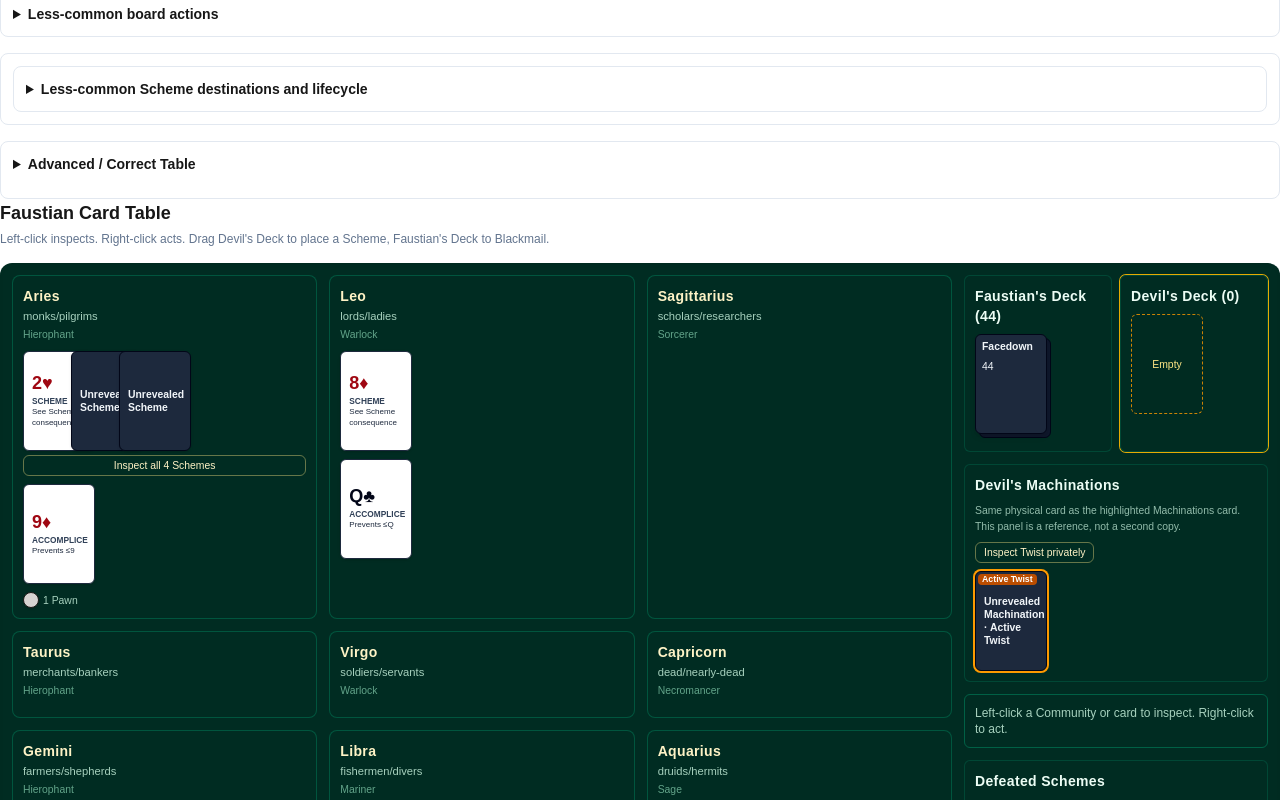
Test: Faustian surface presentation › names Leo at most once in a selected-card inspector
This screenshot has width=1280, height=800.
(page scrolled)
Click the button "8♦ Scheme See Scheme consequence": (376, 401) 340,351 -> 412,451
(page scrolled)
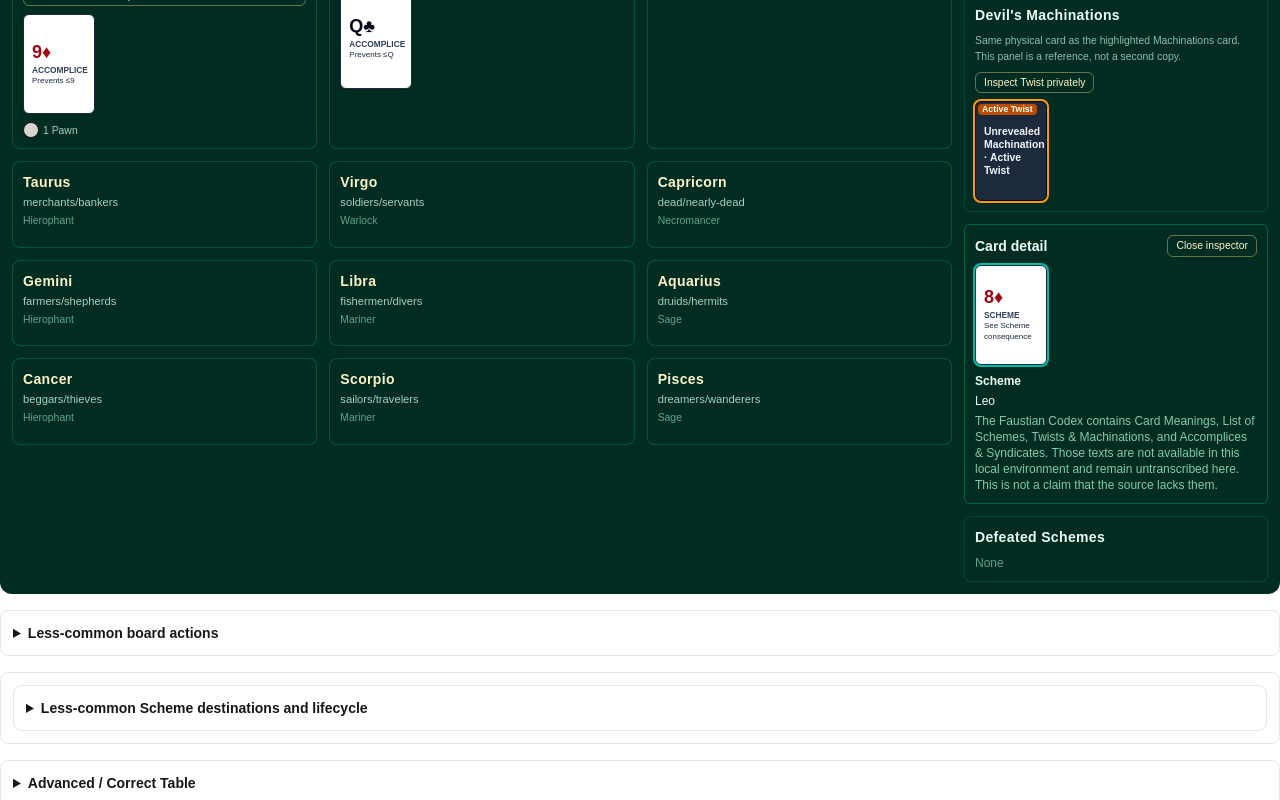
Expected: the element named "Leo inspector" shows "8♦", 975,265 -> 1047,365
Expected: the element named "Leo inspector" shows "Scheme", 975,265 -> 1047,365
Expected: the text "Scheme" is shown, 975,374 -> 1021,388
